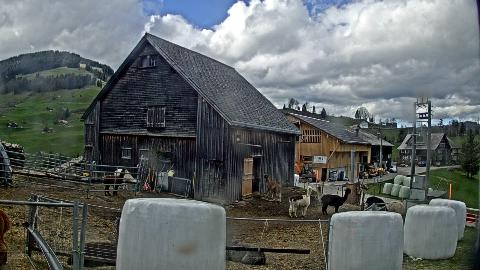car: (388, 166, 398, 172), (418, 162, 426, 166)
sheep: (70, 218, 120, 266), (225, 240, 267, 266), (320, 188, 352, 216), (290, 186, 314, 218), (104, 168, 128, 196), (1, 210, 12, 268), (114, 169, 140, 189), (264, 174, 282, 202), (366, 196, 390, 212), (388, 200, 406, 216), (317, 186, 329, 202)
